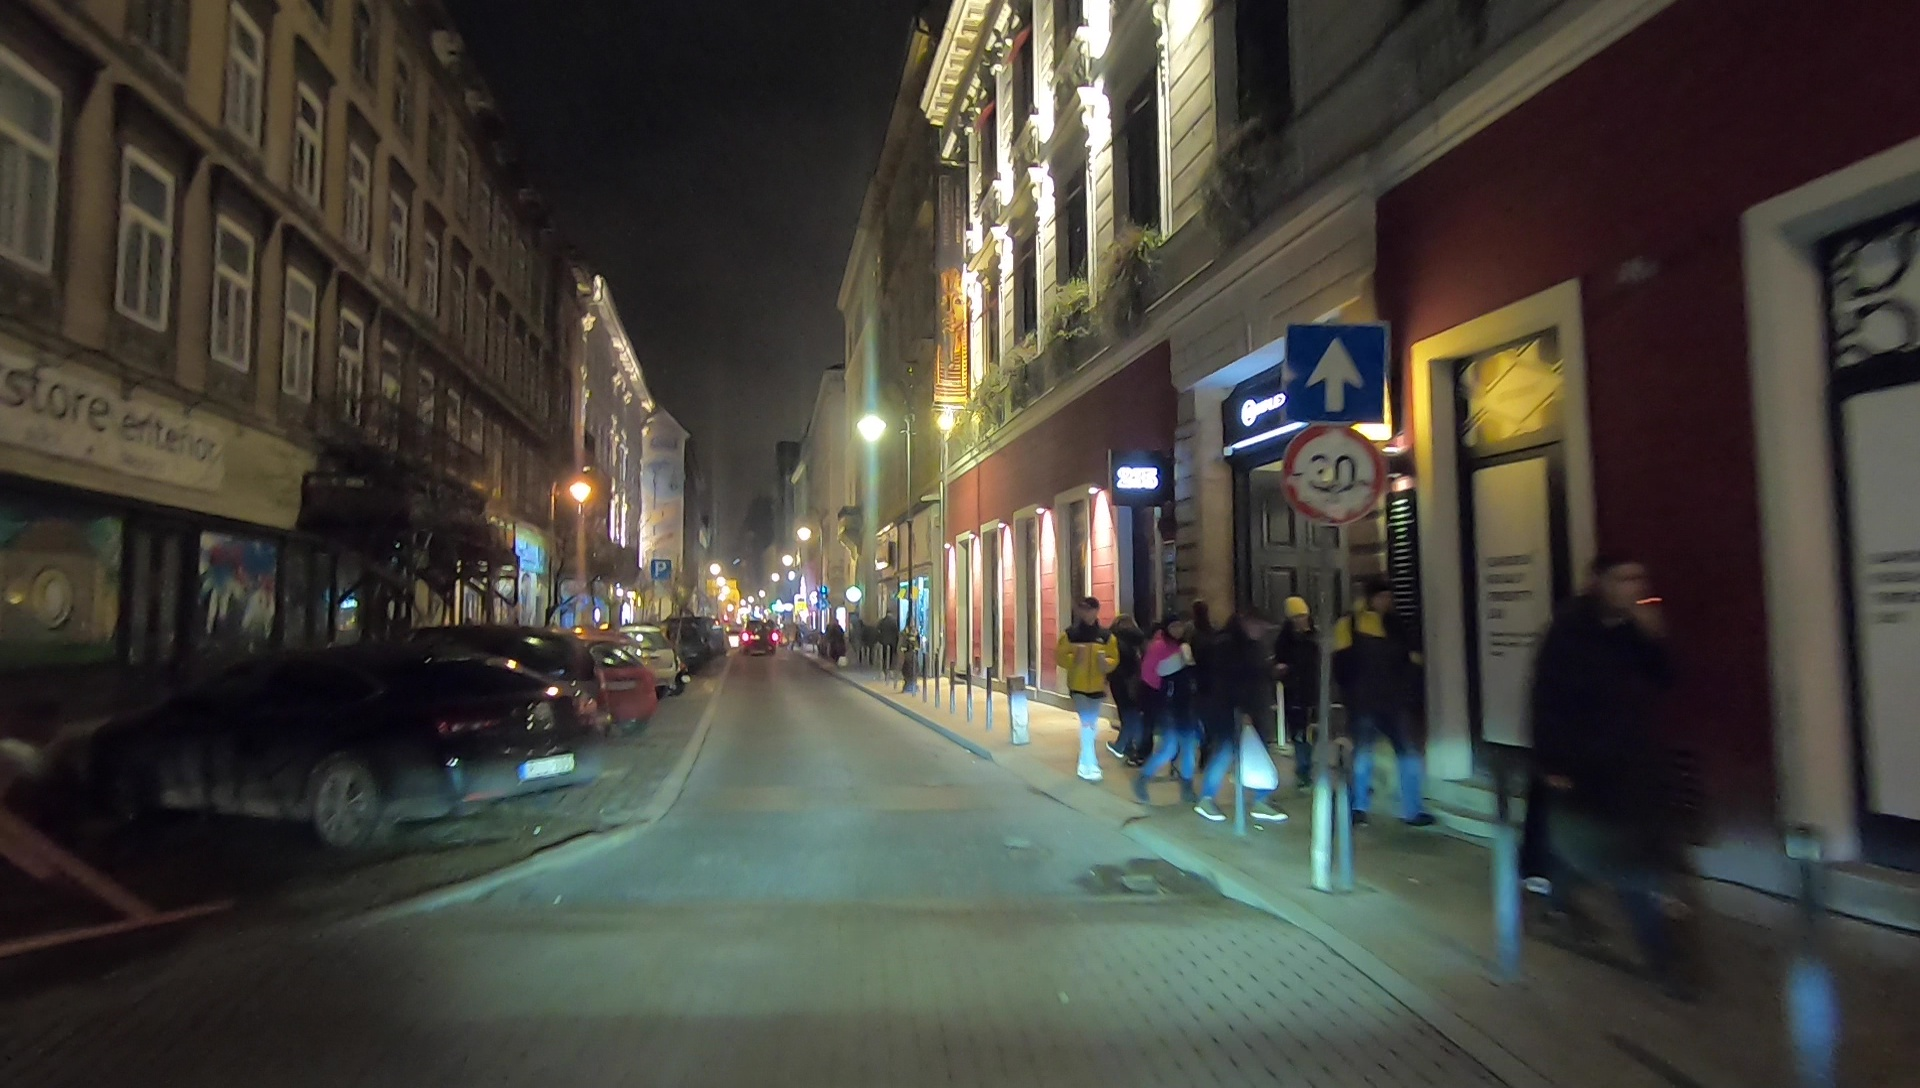person: (1526, 547, 1699, 969), (1334, 582, 1443, 828), (1208, 615, 1295, 824), (1145, 617, 1202, 804), (1060, 593, 1117, 780), (1282, 599, 1328, 782), (1112, 610, 1145, 760)
